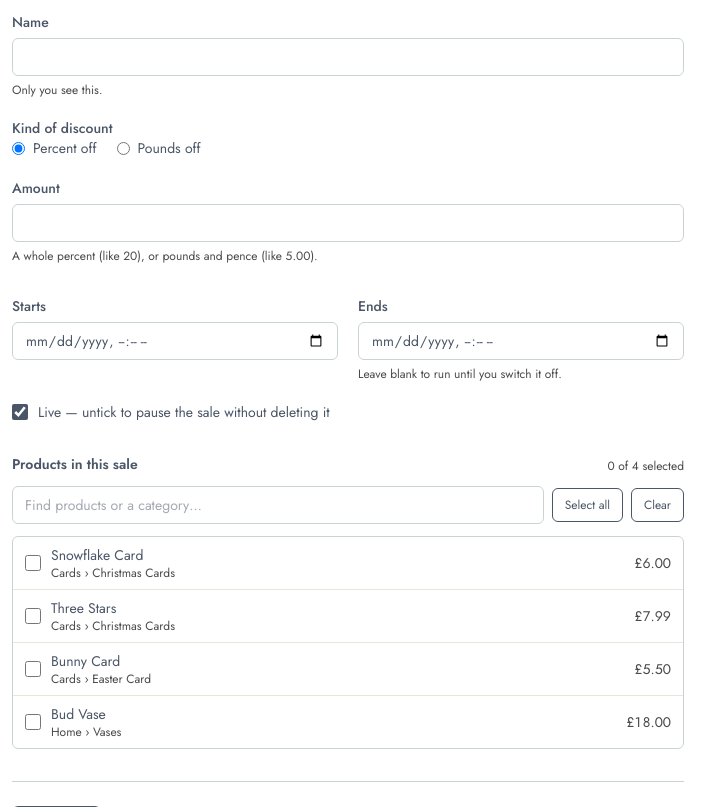
it: SaleForm, finding products by category › selects just the products found, not the whole shop
Type "christmas" into the search field labelled "Find products or a category…".
click(278, 505); type("christmas")  # box x1=12 y1=486 x2=544 y2=524
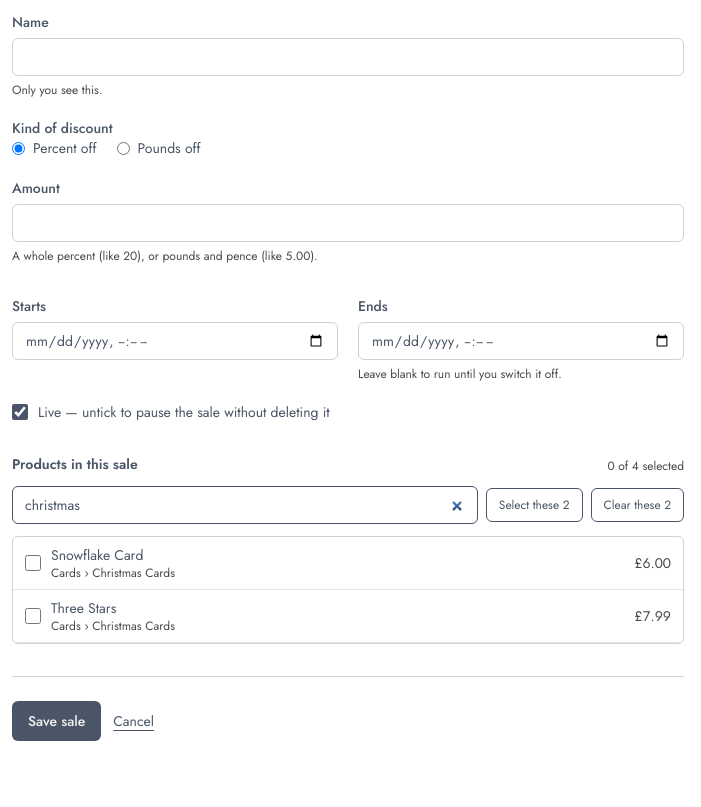
Click the button "Select these 2".
click(534, 505)  # box x1=486 y1=488 x2=582 y2=522
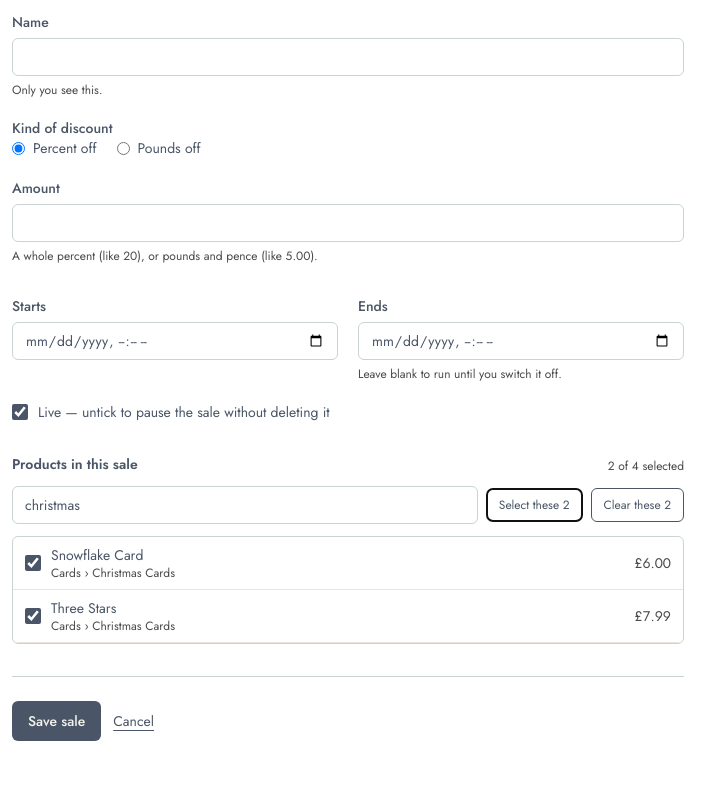
Check: the text "2 of 4 selected" is shown, box x1=608 y1=458 x2=684 y2=474
